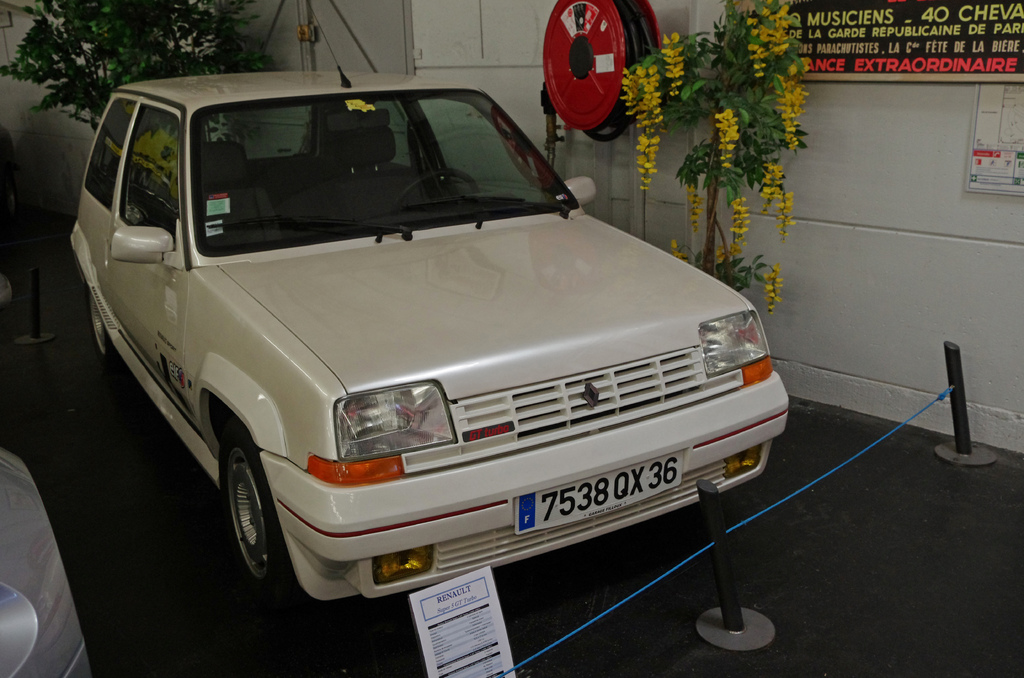mobil: (59, 43, 800, 630)
